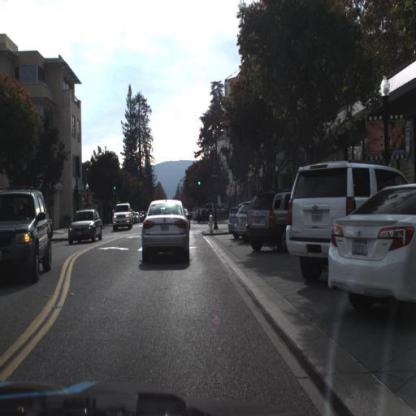car: (284, 160, 413, 284), (282, 155, 333, 295), (1, 187, 53, 285), (139, 198, 195, 271), (245, 189, 295, 255), (243, 185, 285, 256), (65, 205, 105, 246), (67, 205, 105, 245), (109, 199, 133, 235), (112, 202, 135, 233), (235, 199, 249, 243)
trafficLight-Green: (113, 182, 118, 195), (197, 176, 202, 189)
